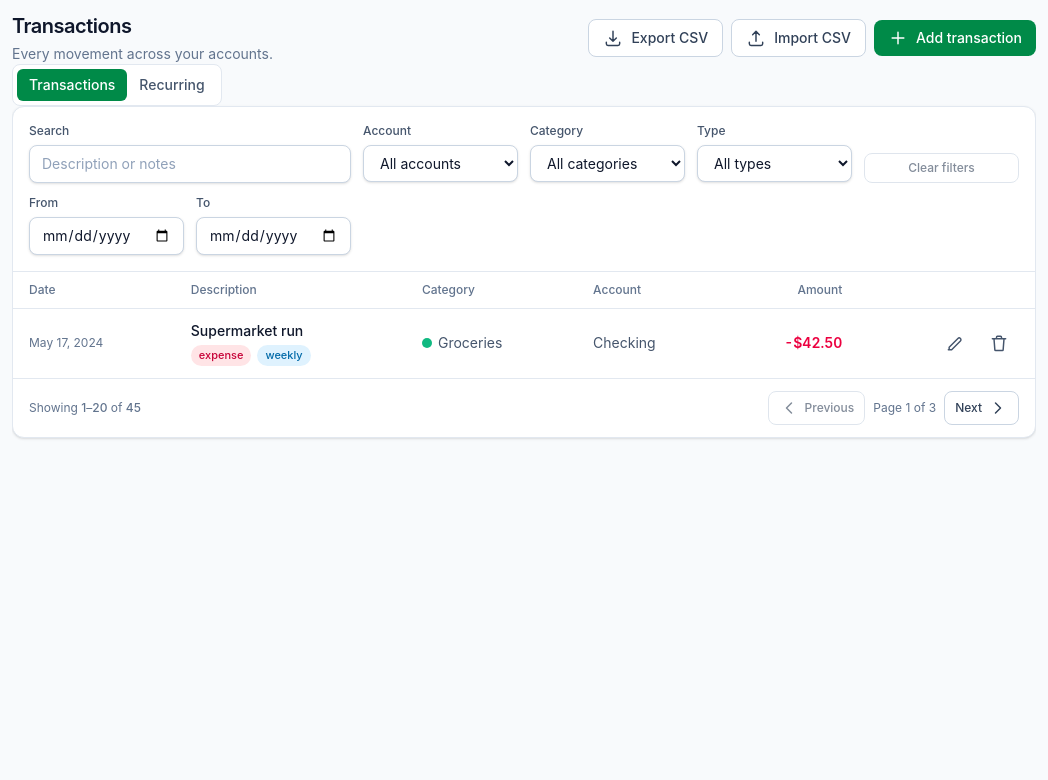
Test case: TransactionsPage › exports a CSV using the current date filters
Check: the text "Supermarket run" is shown, box [191,322,303,339]
Click the button "Export CSV" at [656, 38], box [588,19,723,57]
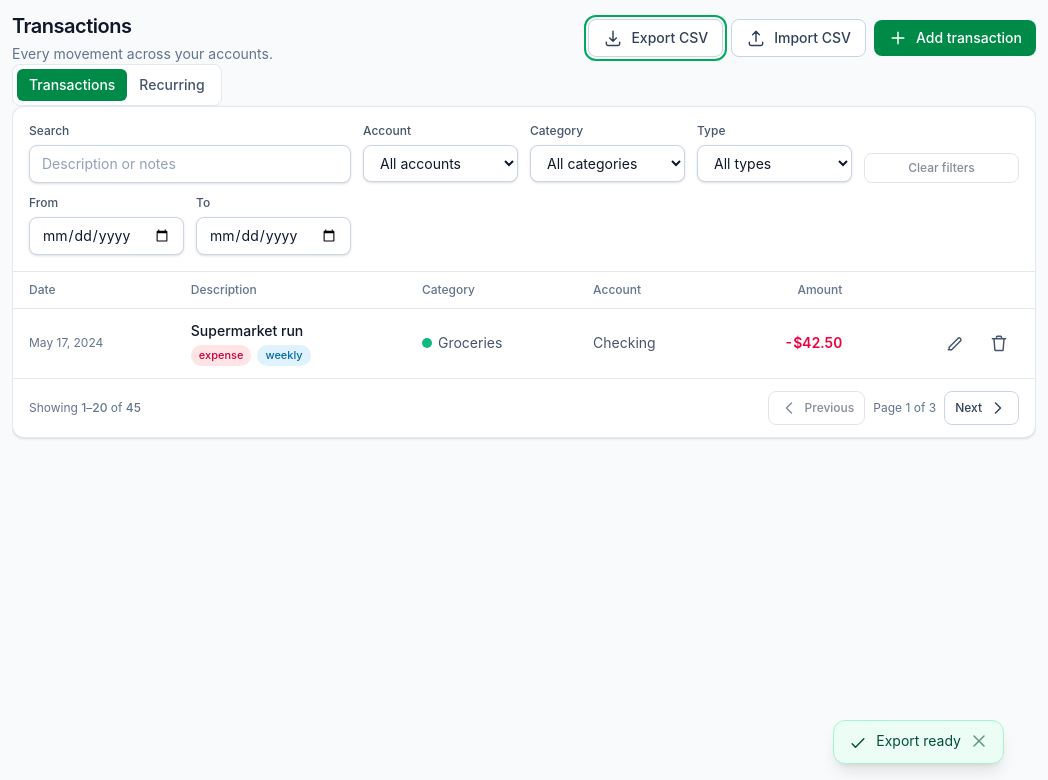
Check: the text "Export ready" is shown, box [876,731,961,751]
